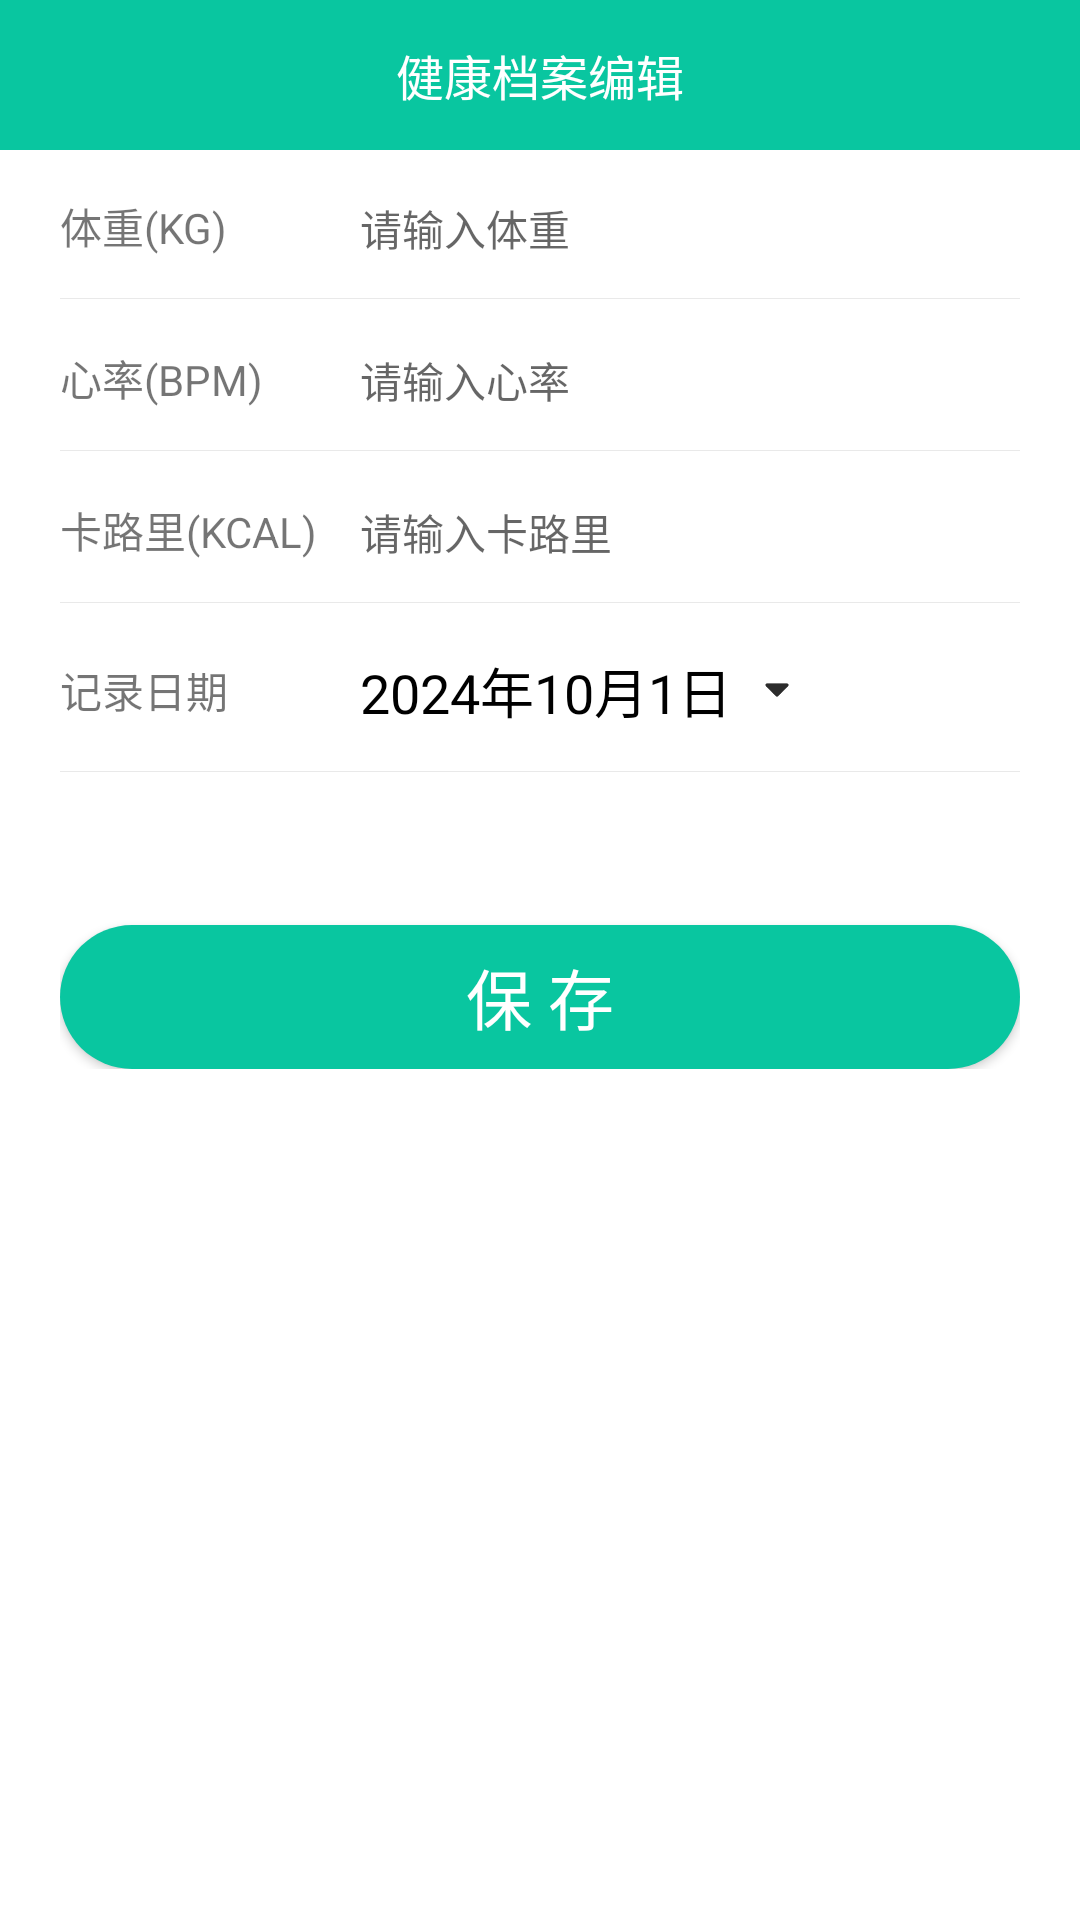

Icon bounding boxes for this 1080w x 1920h phone screenshot, format [x1, y1, x2, y2]:
down: [765, 683, 789, 697]
